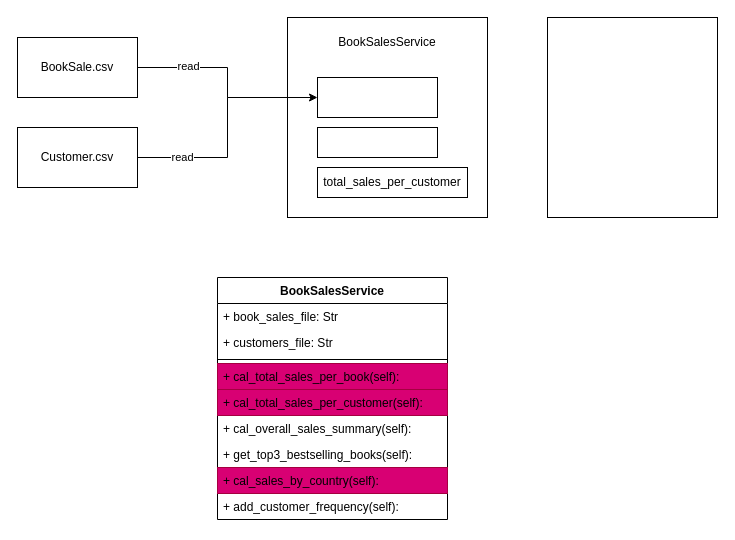
The diagram is 735 pixels wide and 540 high, and some of its shapes have lost their labels. The centre of each missing label's shape, as x and y in pixels:
"BookSalesController" goes at point 632,117.
"merge" goes at point 377,97.
"total_sales_per_book" goes at point 377,142.
